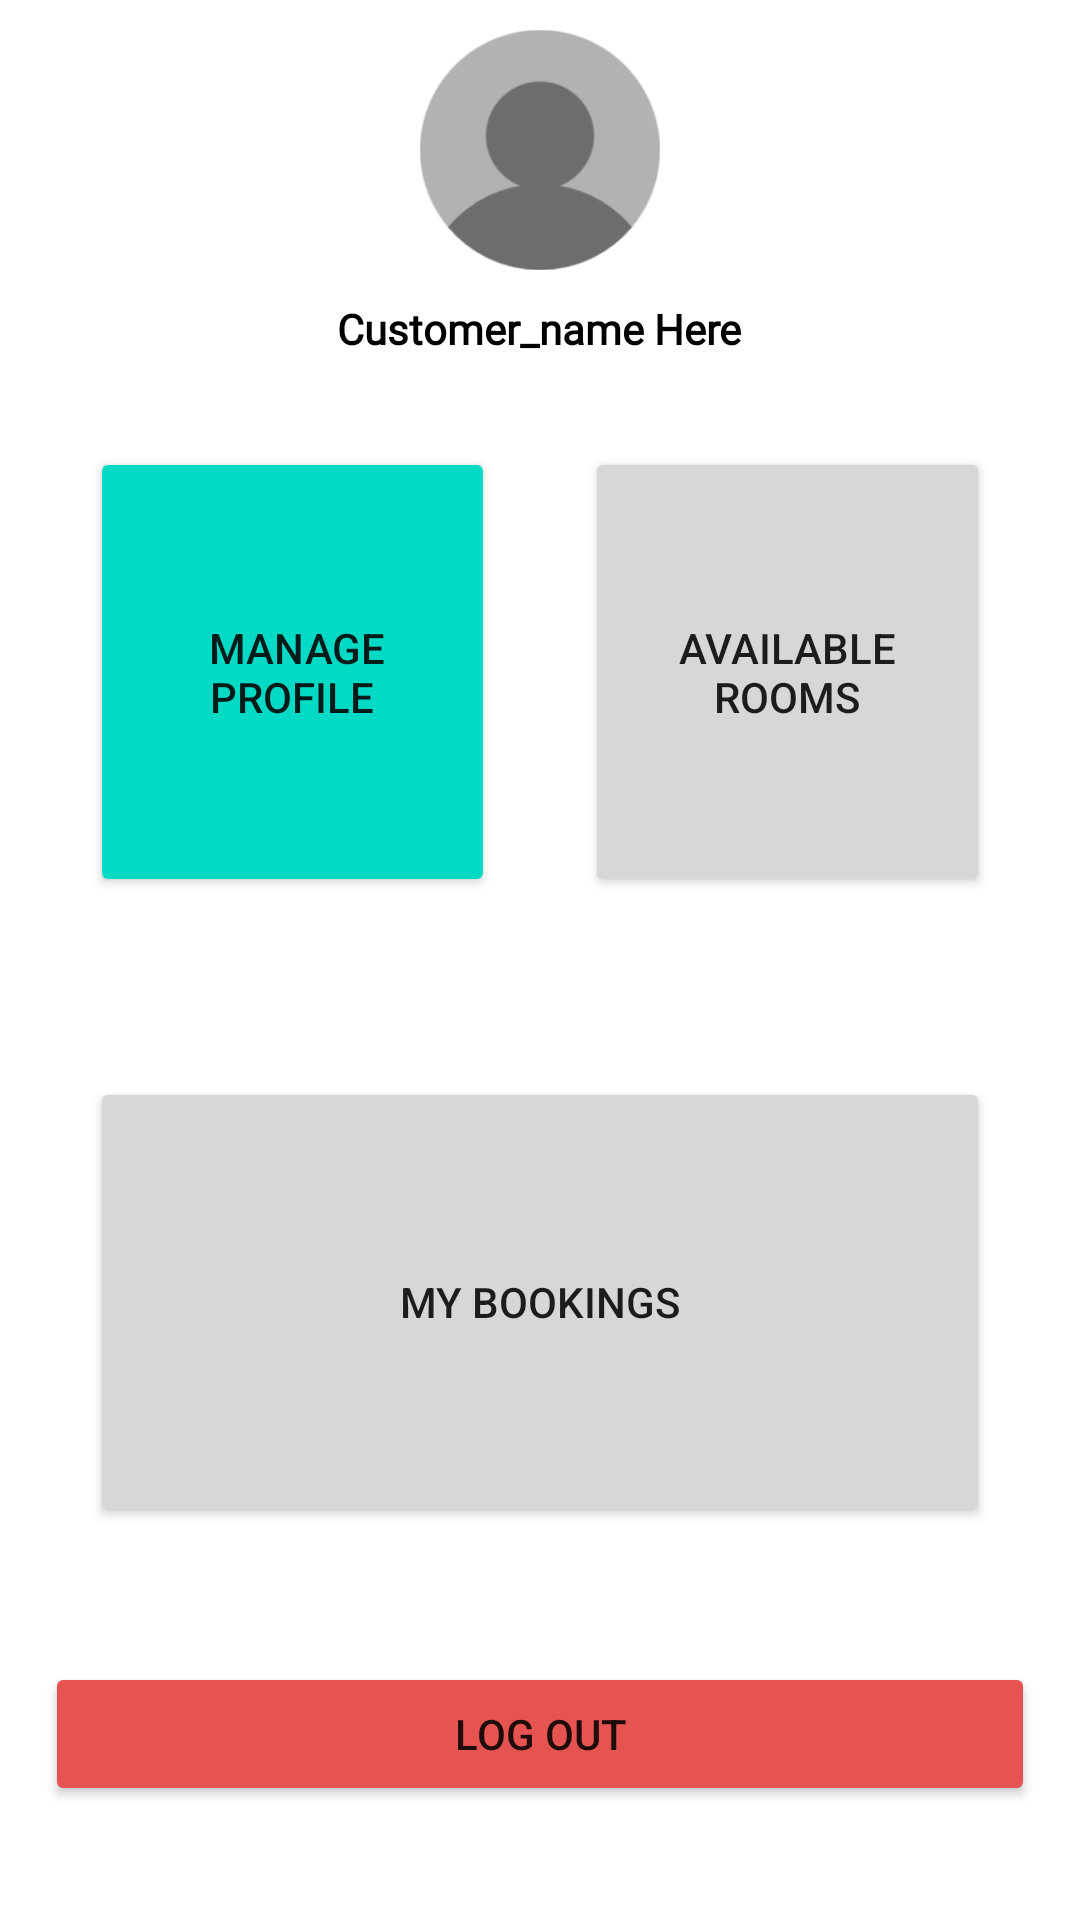

Screen size 1080w x 1920h. Icon name, then its box in pixels as (x1, y1, x2, y2):
active User Image: (420, 30, 660, 270)
